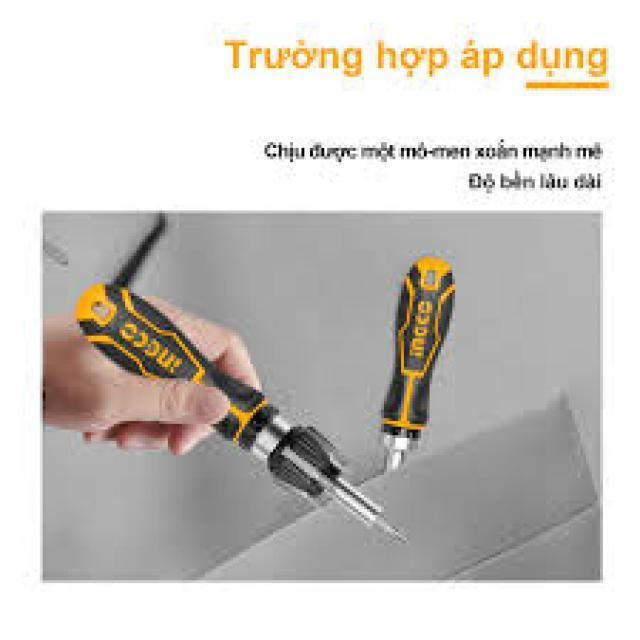screwdriver: (72, 280, 412, 548)
